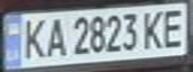2: (66, 12, 90, 56), (103, 11, 124, 53)
3: (121, 9, 142, 52)
8: (87, 11, 109, 54)
A: (42, 15, 69, 60)
E: (157, 5, 190, 48)
K: (18, 15, 51, 61), (139, 7, 169, 51)
